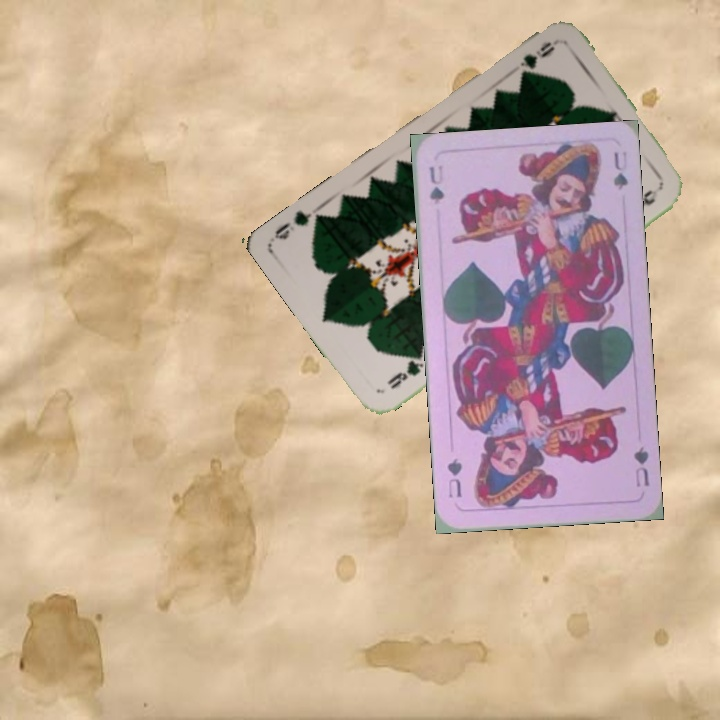G9: (516, 36, 560, 81), (383, 349, 426, 392)
GU: (630, 442, 652, 489), (425, 161, 447, 207)
